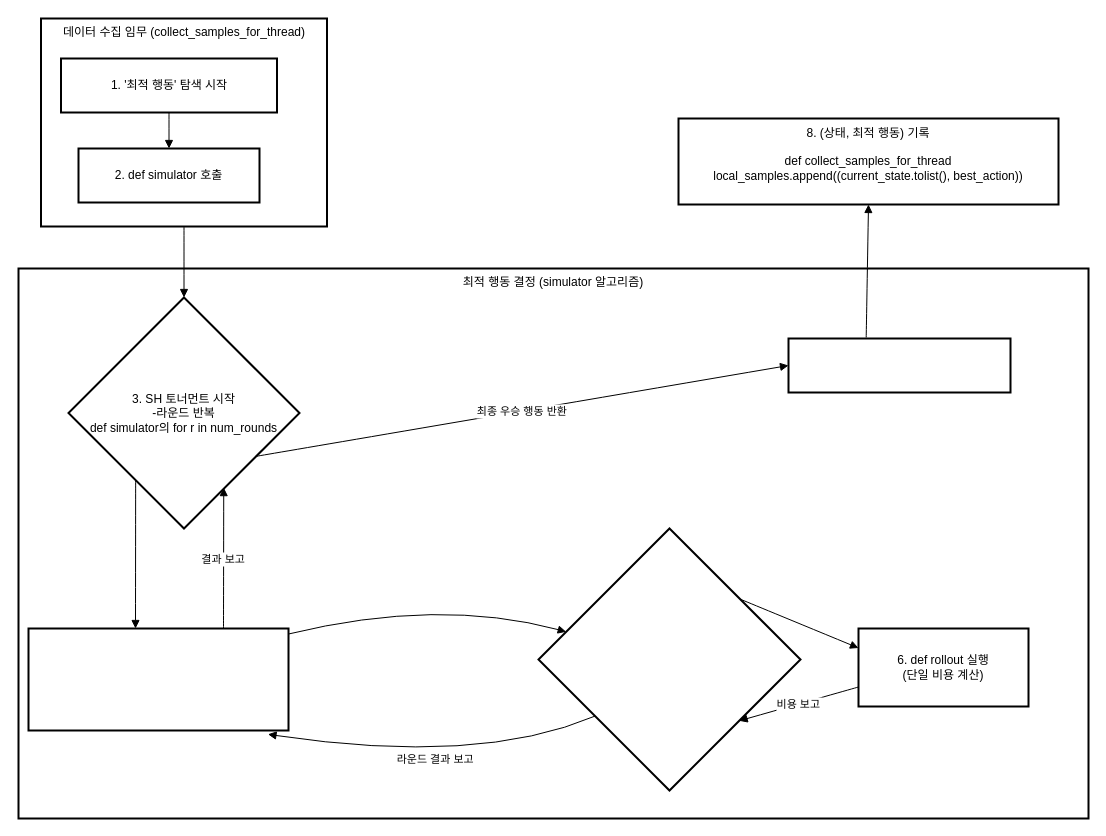
Some shapes in this 1106 by 836 pixel diagram are drawn without their labels. Here are the shapes that lost their labels. From the top down, the centre of each, then its label:
[899,365]: 7. '최적 행동' 결정 완료!
[158,679]: 4. def_run_simulation_steps 호출 (한 라운드만 진행, 라운드결과 판단x)
[669,659]: 5. def rollout 반복 호출 def_run_simulation_steps의 for action in A_r:
